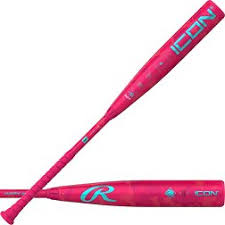baseball bat: (1, 1, 225, 225), (3, 181, 225, 207)
